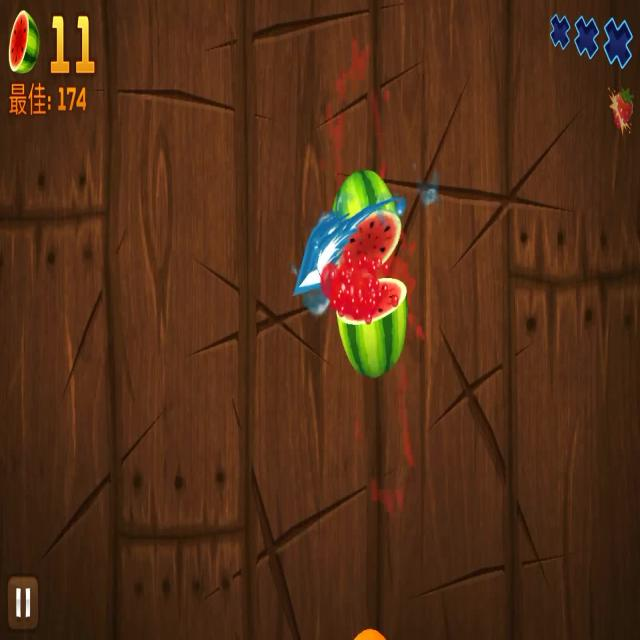fruit: (334, 275, 410, 378), (326, 169, 404, 268)
